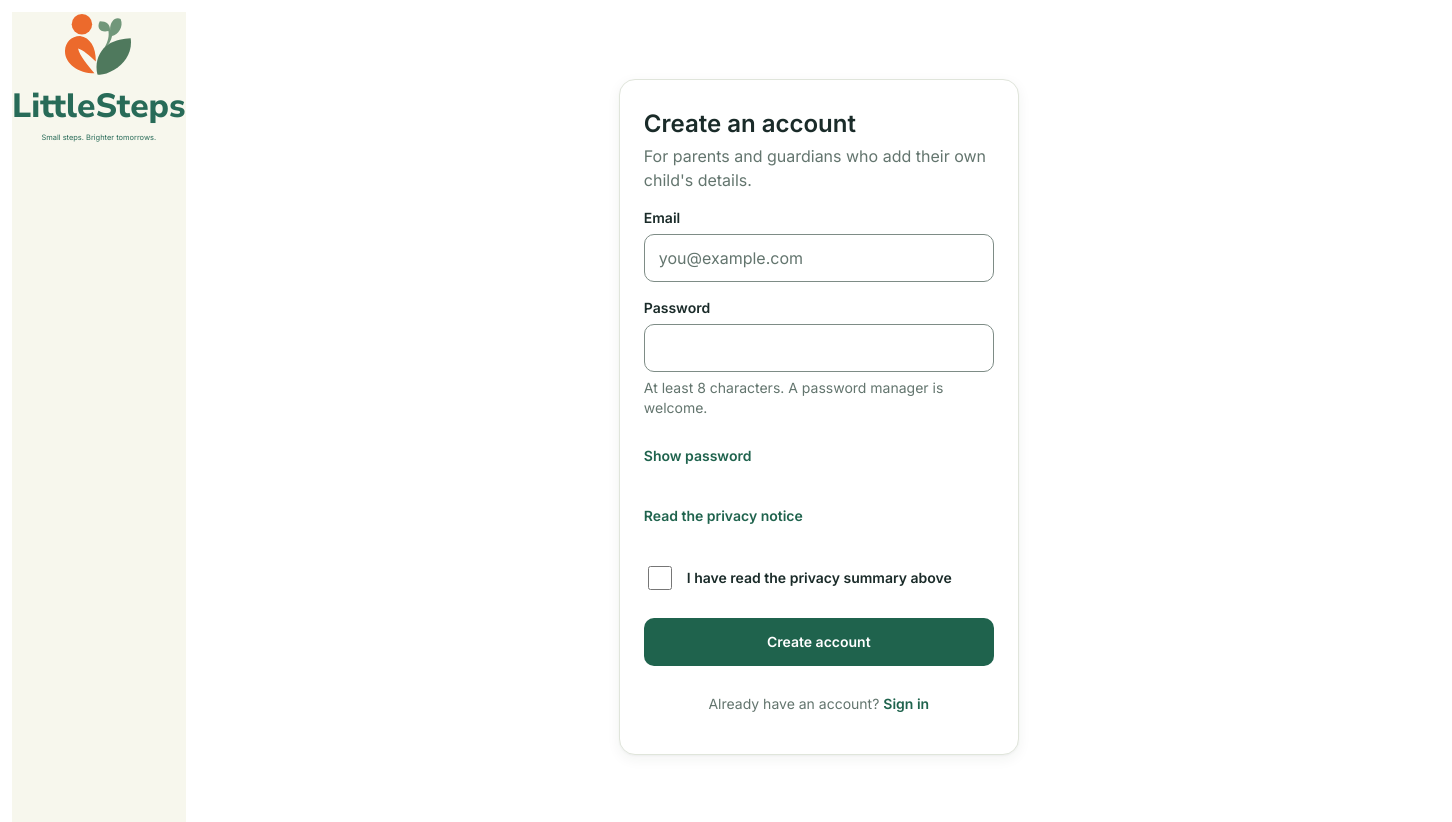
Test: CreateAccountForm › shows the weak password message
In the field labelled "Email": (819, 258) top-left (644, 234), bottom-right (994, 282), type "a@b.co"
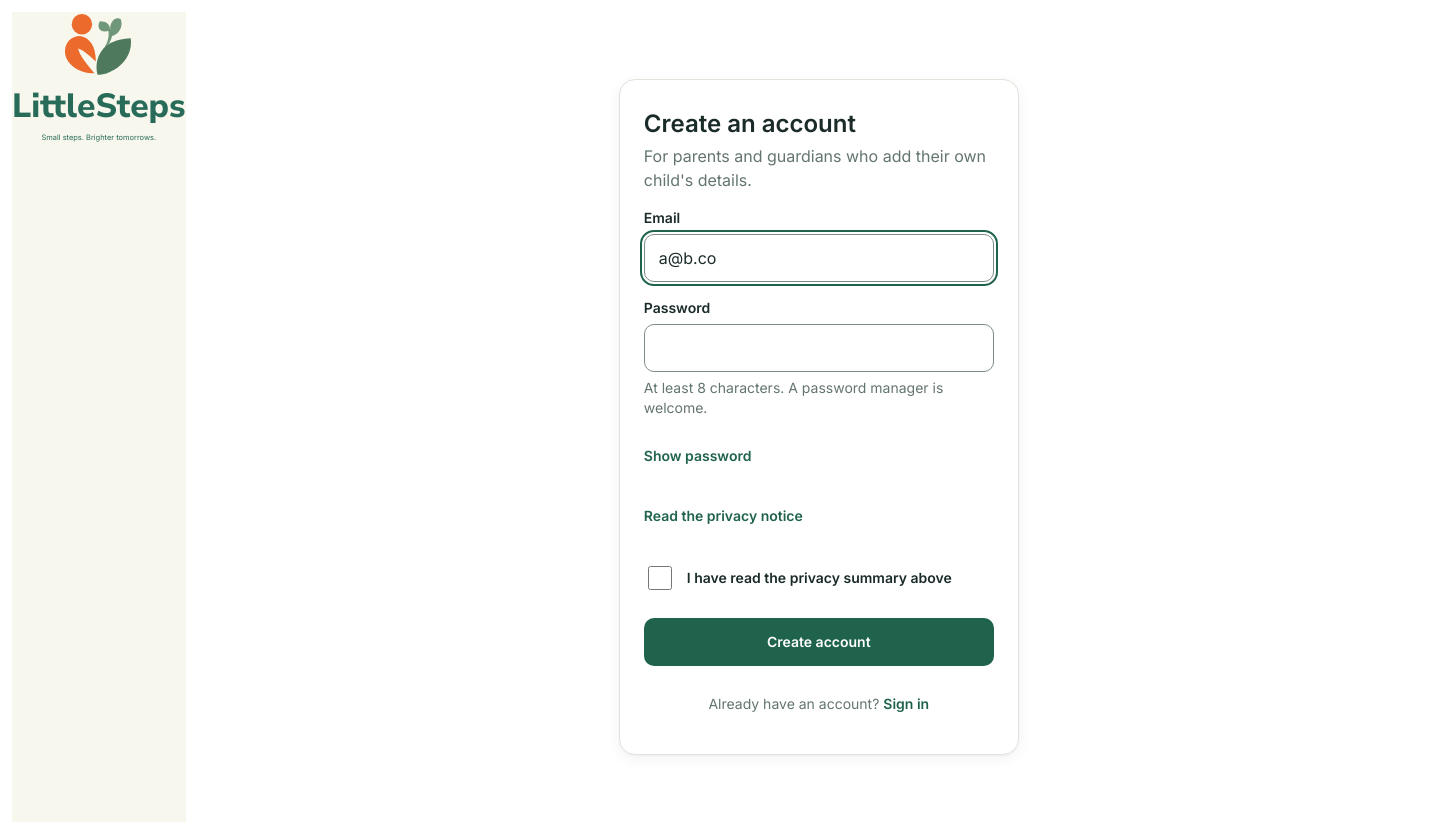
In the password field labelled "Password": (819, 348) top-left (644, 324), bottom-right (994, 372), type "short"
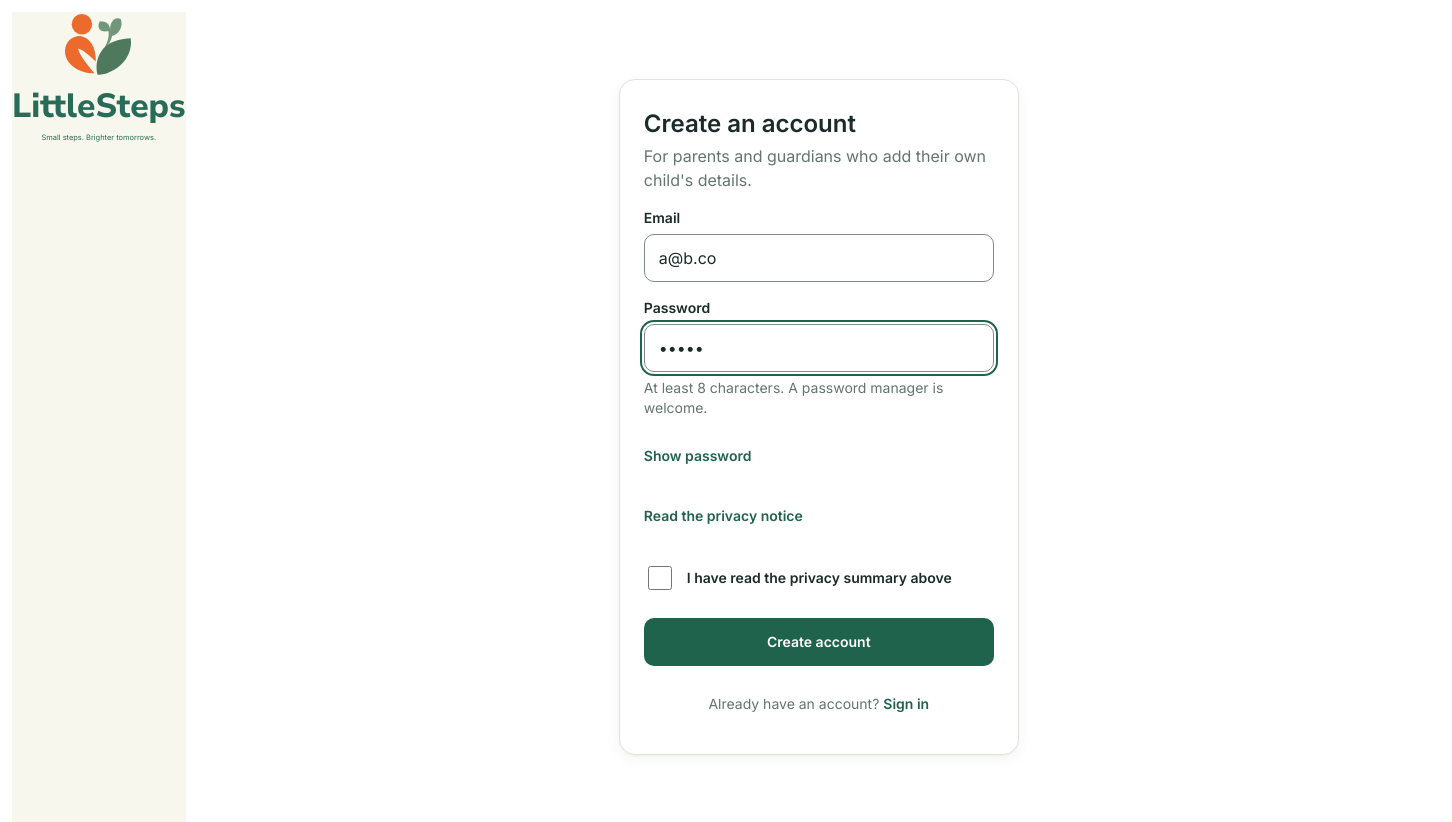
Click the checkbox labelled "I have read the privacy summary above": click(660, 578) top-left (648, 566), bottom-right (672, 590)
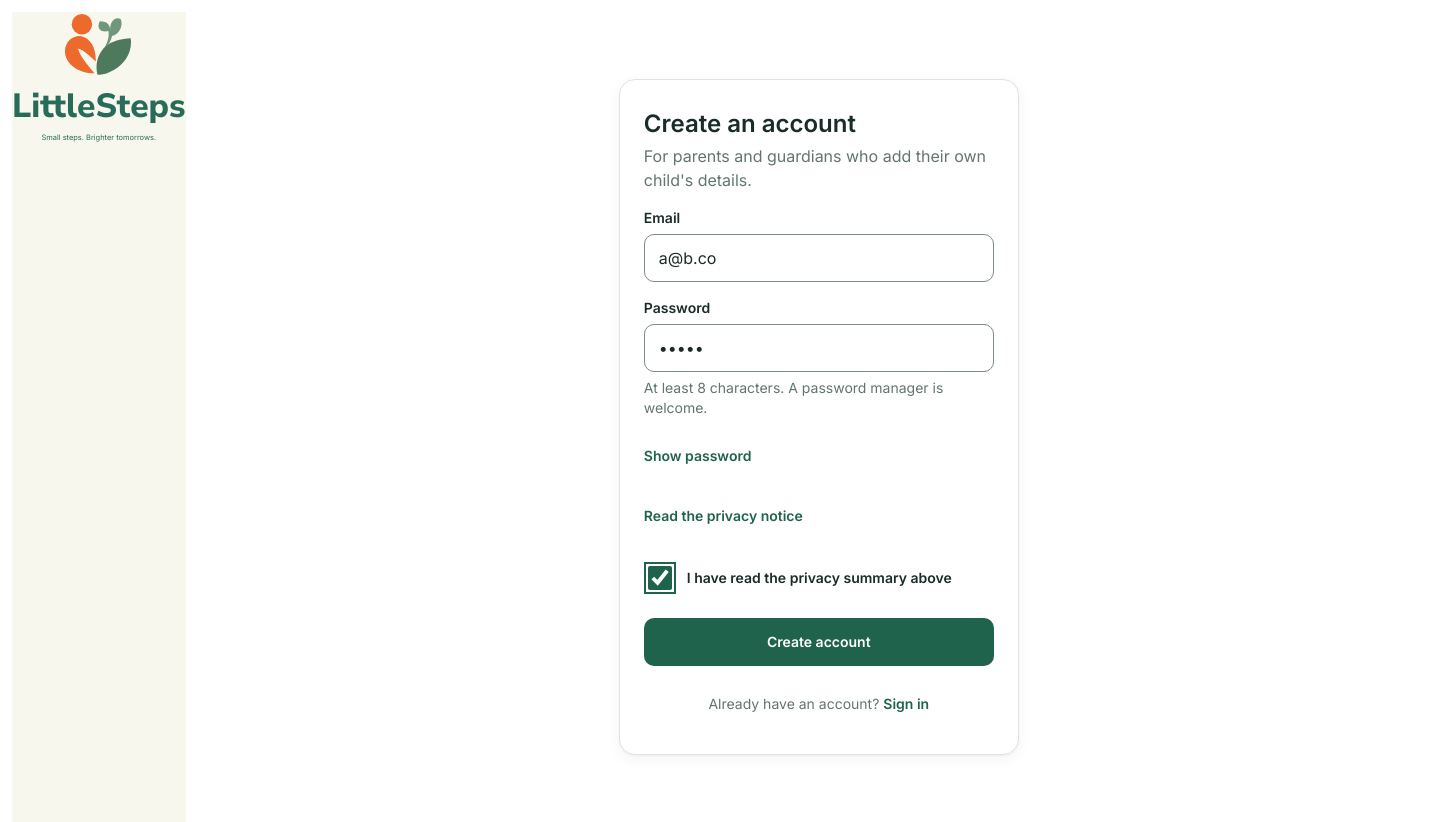
Click the button "Create account": click(819, 642) top-left (644, 618), bottom-right (994, 666)
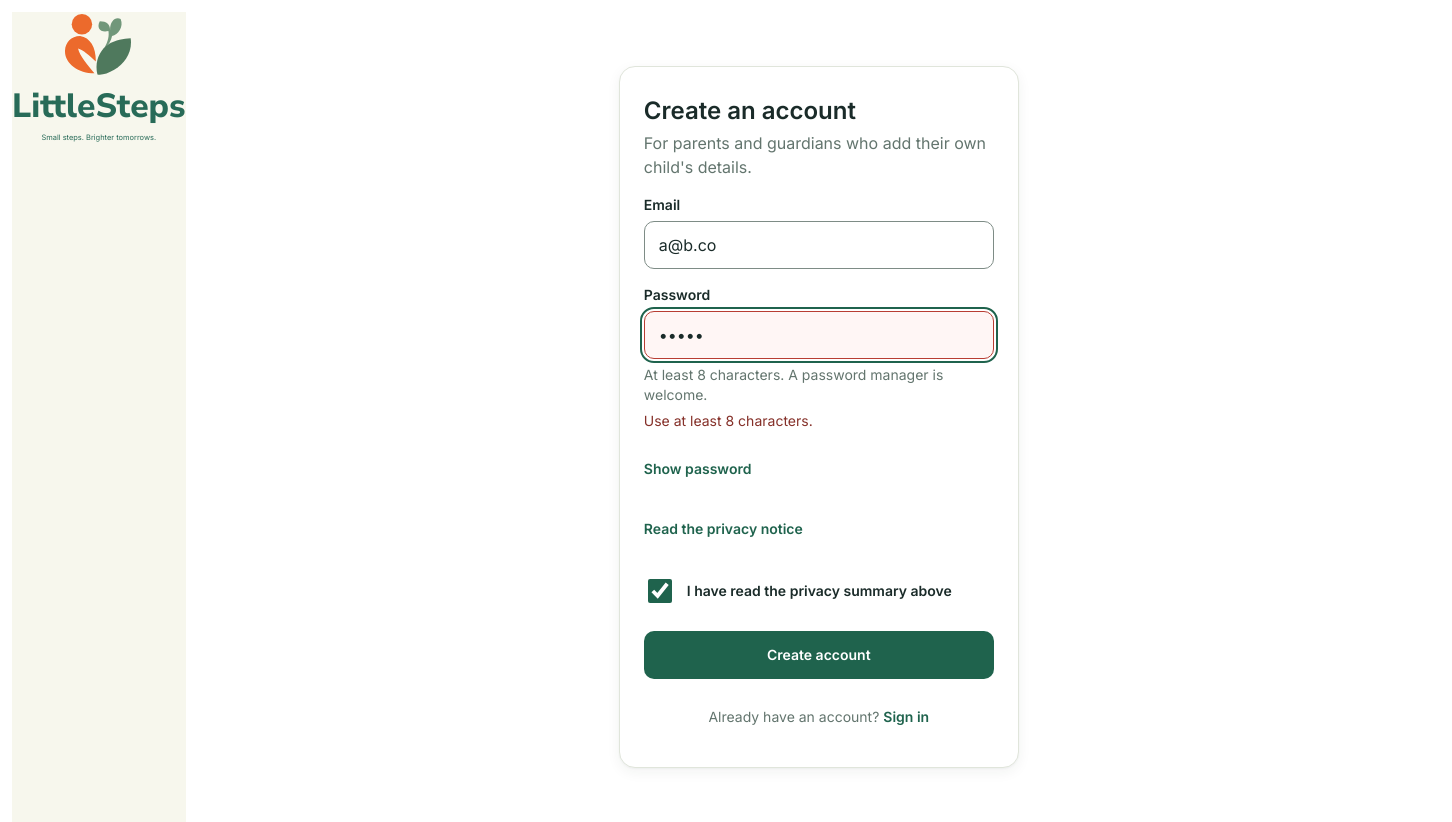
Result: the text "Use at least 8 characters." is shown at top-left (644, 412), bottom-right (813, 429)
